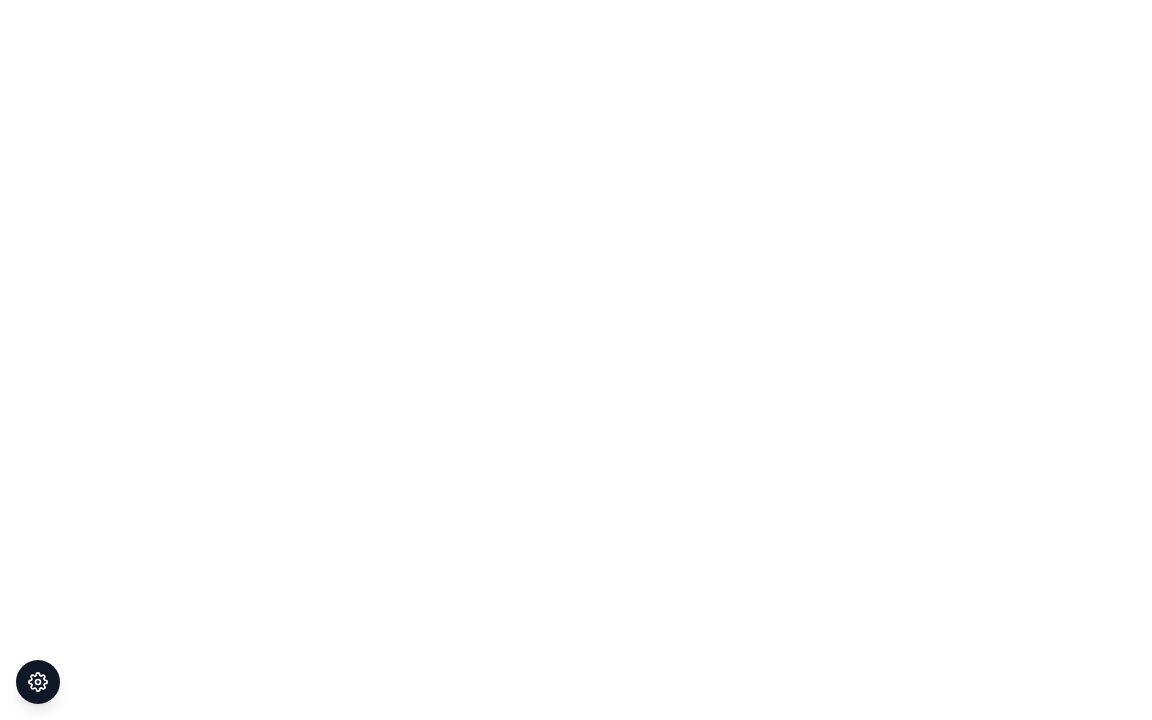
Test: PanelAjustes › se abre con el boton y permite activar el modo oscuro
Later steps or results of the test are not shown.
Check: the text "Modo oscuro" is not shown
What coordinates should you click on to do the following:
click the button named "Abrir ajustes"
I would click on:
 (38, 682)
Its box is [16,660,60,704].
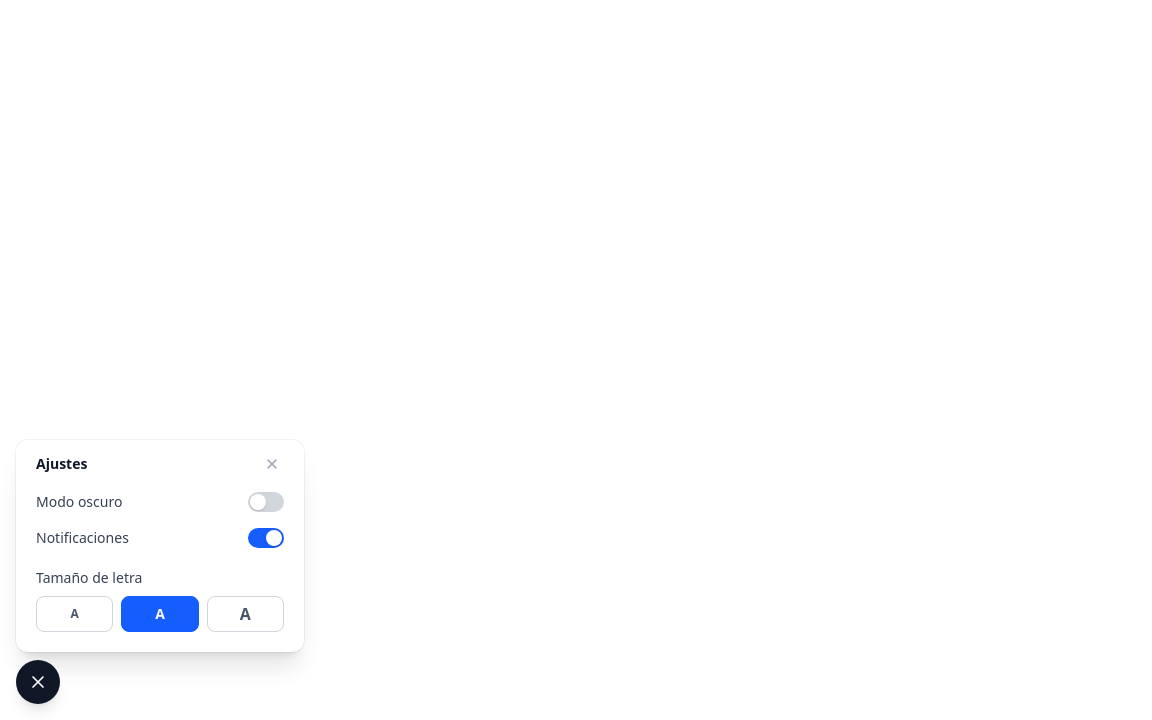
Check: the text "Modo oscuro" is shown, box [36,492,122,512]
Check: the text "Notificaciones" is shown, box [36,528,129,548]
Check: the text "Tamaño de letra" is shown, box [36,568,142,587]
